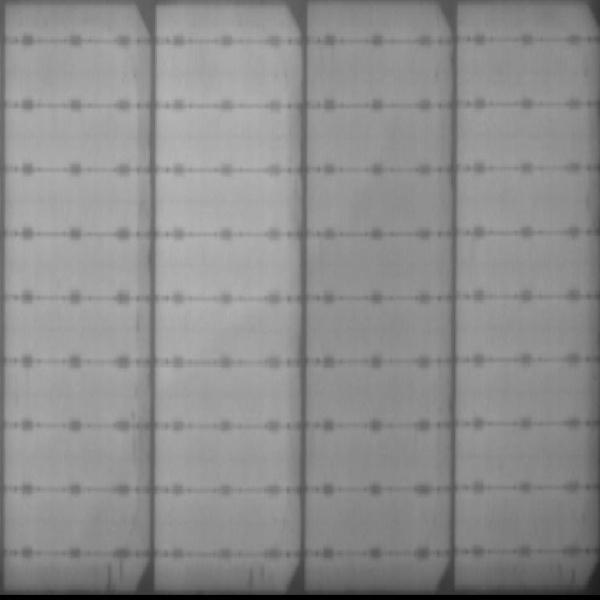scratch: (243, 561, 280, 588), (100, 562, 129, 586)
